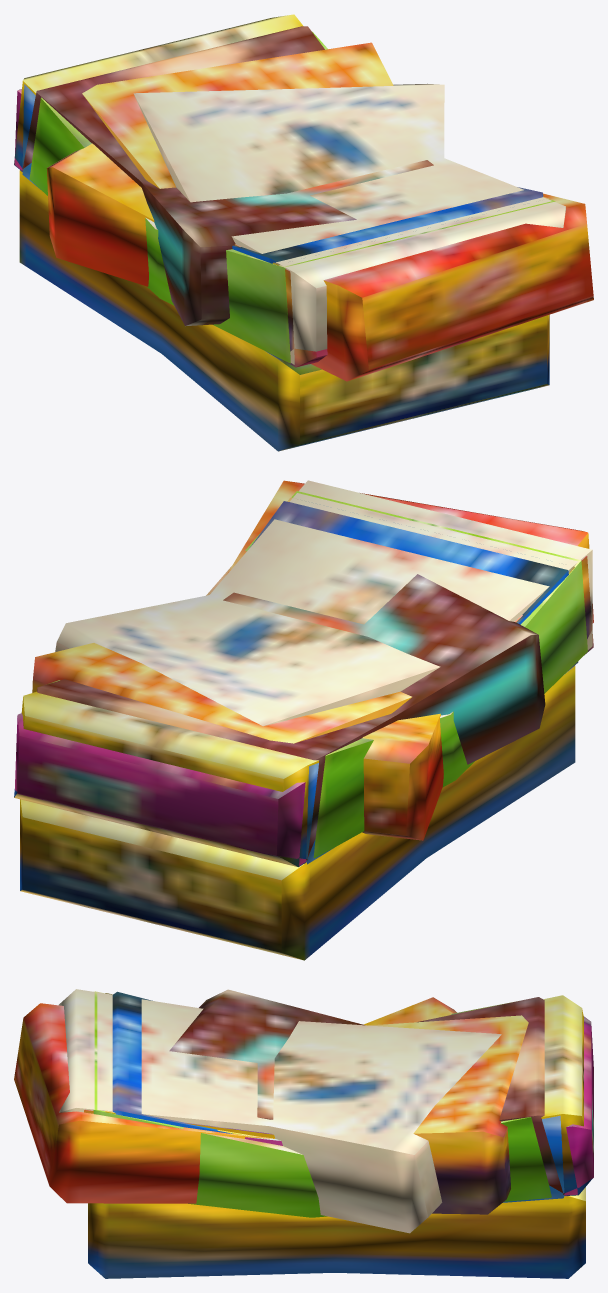
The model's file is tierfutter_01.fbx.
The picture shows the model from 3 angles, top to bottom: view 1: azimuth 30°, elevation 25°; view 2: azimuth 150°, elevation 25°; view 3: azimuth 270°, elevation 25°; orthographic projection. The views are drawn at different scales.
Visible parts, largest first — view 1: tierfutter_07b, tierfutter_05b, tierfutter_01a, tierfutter_08b, tierfutter_04b, tierfutter_02b, tierfutter_01b, tierfutter_06b; view 2: tierfutter_07b, tierfutter_01a, tierfutter_08b, tierfutter_03b, tierfutter_01b, tierfutter_05b, tierfutter_02b, tierfutter_04b, tierfutter_06b; view 3: tierfutter_07b, tierfutter_01a, tierfutter_05b, tierfutter_04b, tierfutter_08b, tierfutter_02b, tierfutter_01b, tierfutter_06b, tierfutter_03b.
Boxes of the visible parts, x1,y1,x2,y2 form: tierfutter_07b: [133, 83, 565, 364]; tierfutter_05b: [46, 143, 593, 381]; tierfutter_01a: [19, 170, 549, 451]; tierfutter_08b: [22, 26, 433, 326]; tierfutter_04b: [82, 42, 393, 367]; tierfutter_02b: [29, 31, 555, 363]; tierfutter_01b: [14, 14, 549, 265]; tierfutter_06b: [22, 84, 543, 360]; tierfutter_07b: [55, 480, 592, 726]; tierfutter_01a: [20, 665, 575, 960]; tierfutter_08b: [37, 574, 545, 860]; tierfutter_03b: [15, 713, 306, 865]; tierfutter_01b: [14, 497, 574, 867]; tierfutter_05b: [226, 480, 593, 840]; tierfutter_02b: [49, 491, 587, 858]; tierfutter_04b: [32, 556, 593, 743]; tierfutter_06b: [250, 501, 578, 864]; tierfutter_07b: [59, 989, 501, 1233]; tierfutter_01a: [88, 1187, 585, 1278]; tierfutter_05b: [14, 997, 456, 1203]; tierfutter_04b: [84, 1015, 528, 1214]; tierfutter_08b: [169, 989, 564, 1194]; tierfutter_02b: [93, 991, 551, 1217]; tierfutter_01b: [104, 993, 592, 1195]; tierfutter_06b: [112, 991, 564, 1202]; tierfutter_03b: [245, 1016, 593, 1195].
Bounding box in the file's own units: 90.21 × 44.02 × 135.
